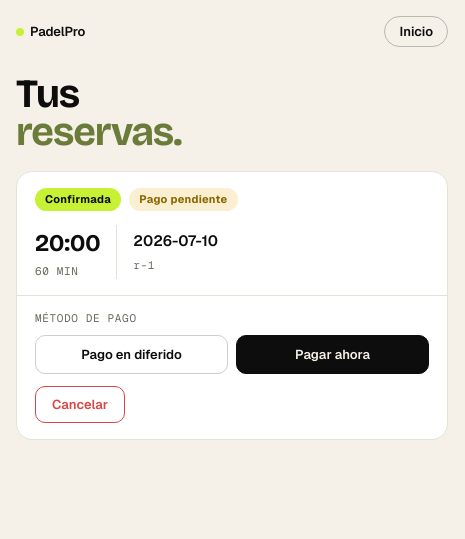
Test: MisReservasPage — estado de pago persistente y simulador › "pago en diferido" aclara que la reserva sigue Pendiente
Check: the text "20:00" is shown, box [35,224,100,260]
Click the button "Pago en diferido": (132, 354) [35,334,228,374]
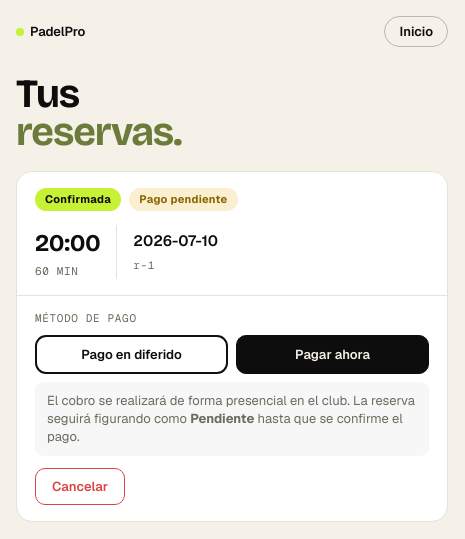
Check: the message shows "pendiente", box [190,410,254,427]
